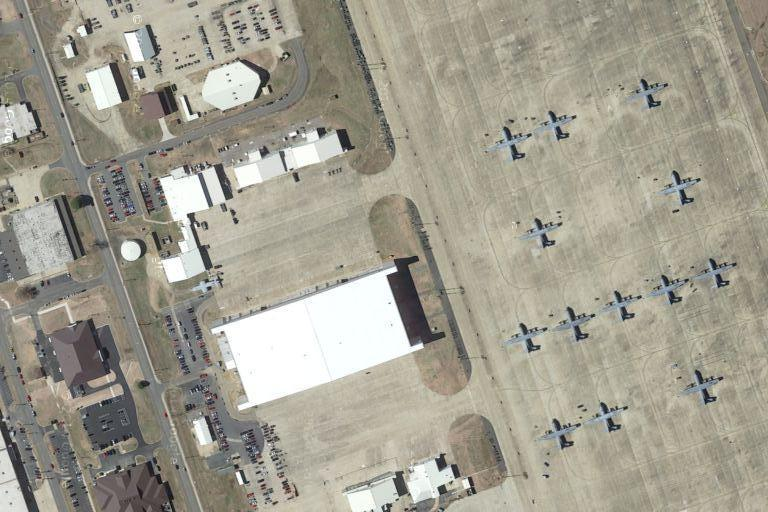C-130: (677, 367, 729, 409), (657, 166, 706, 210), (502, 318, 550, 359), (536, 415, 584, 456), (553, 303, 598, 346), (488, 124, 534, 165), (622, 76, 669, 114), (585, 400, 630, 439), (694, 255, 739, 293), (521, 215, 564, 254), (647, 272, 691, 310), (536, 108, 578, 146), (602, 289, 643, 326)
